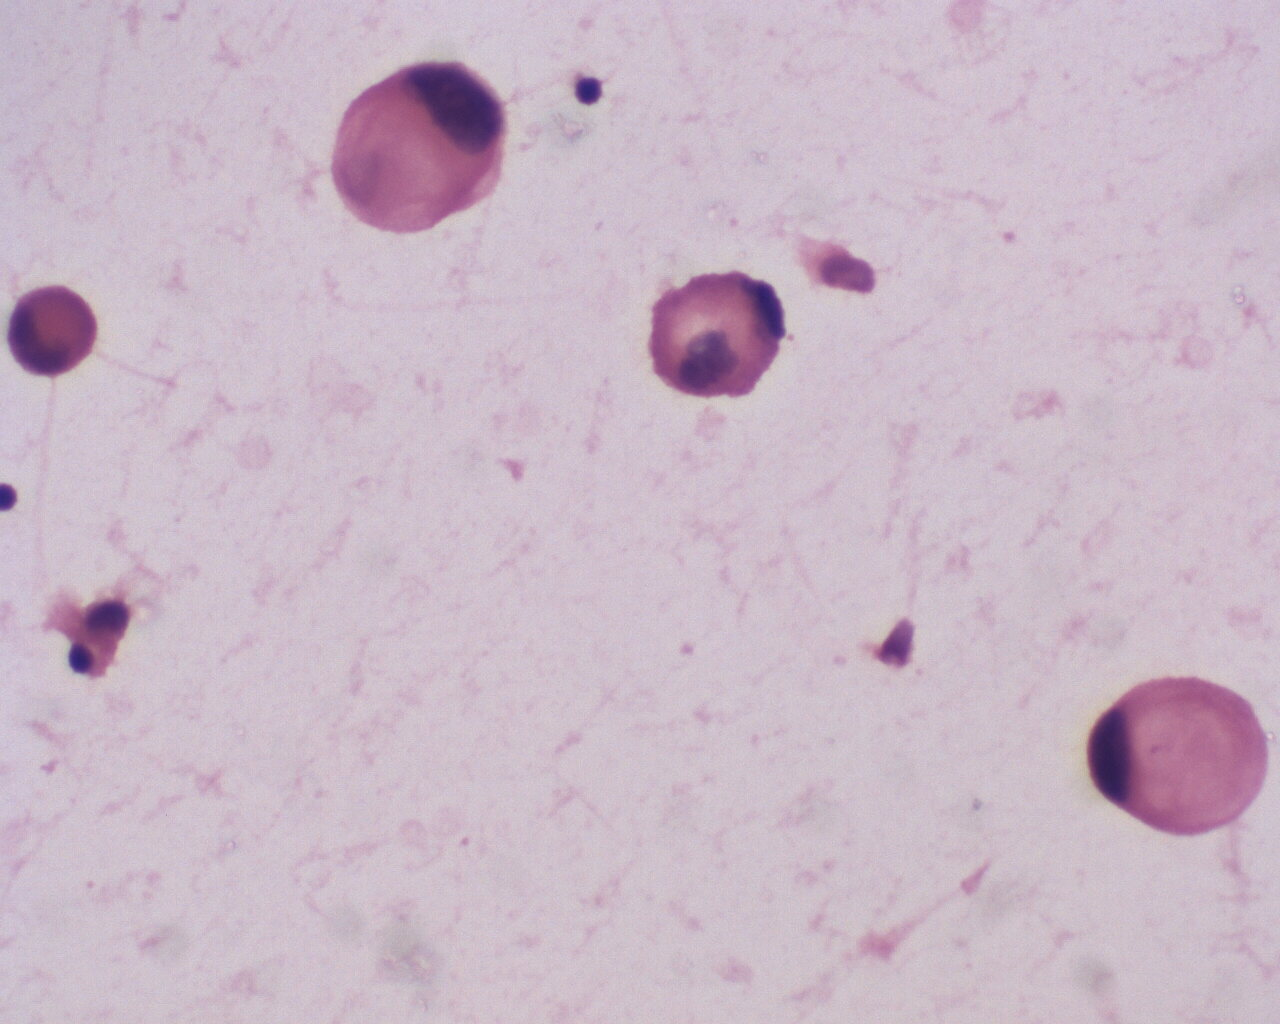histo: (1081, 664, 1275, 845), (326, 57, 507, 242), (647, 264, 788, 408), (6, 279, 99, 382)
